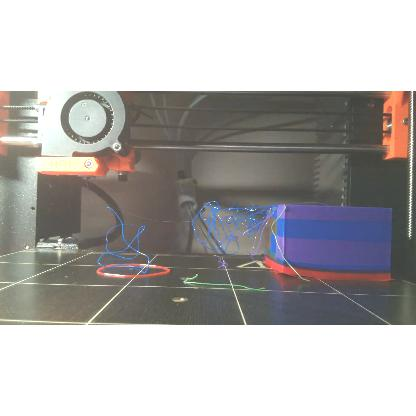fail: (192, 198, 268, 256), (97, 205, 153, 273)
